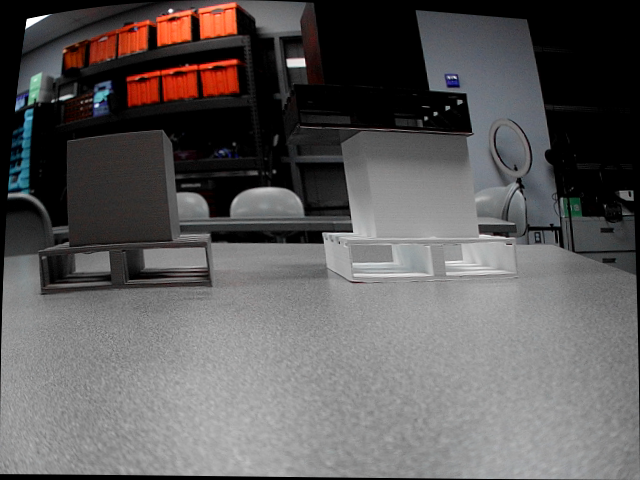black pallet: (277, 1, 476, 148)
grey pallet: (34, 127, 219, 297)
white pallet: (317, 128, 525, 286)
